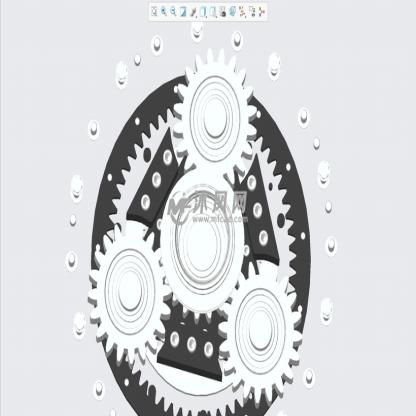FOD: (216, 260, 305, 409), (86, 221, 174, 370), (172, 44, 257, 187)
